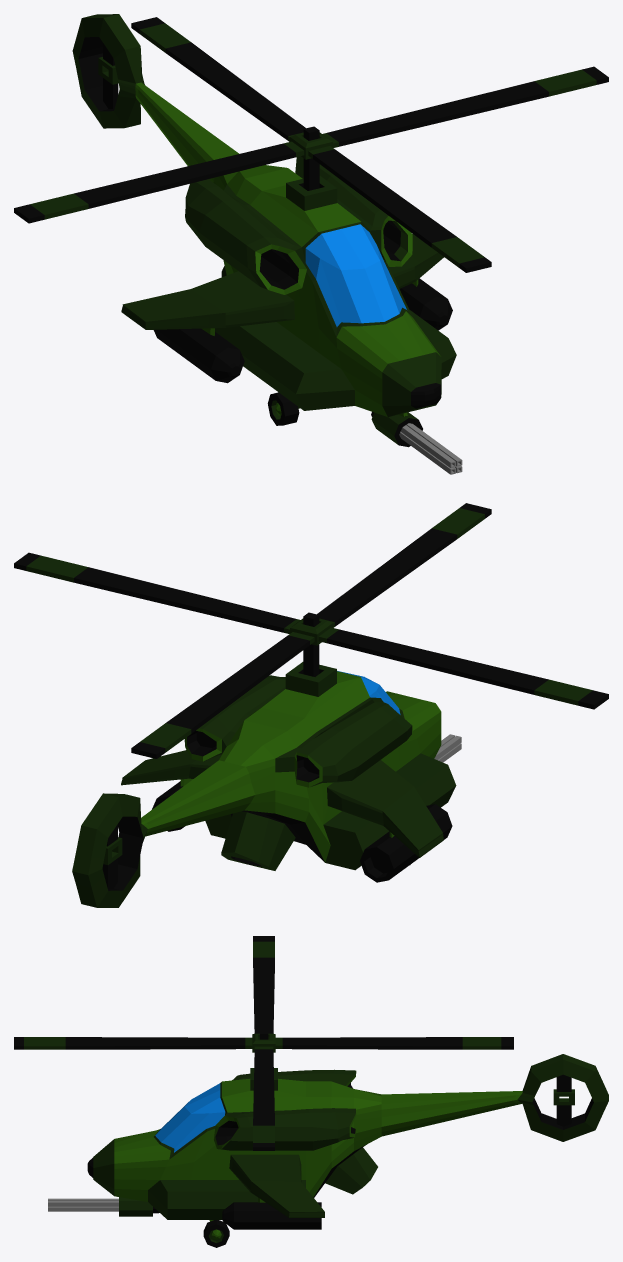
Rendered from Apache.fbx.
3 renders of one model, top to bottom at view 1: azimuth 30°, elevation 25°; view 2: azimuth 150°, elevation 25°; view 3: azimuth 270°, elevation 25°, orthographic. The views are drawn at different scales.
Parts seen in each view (by area): view 1: Apache, Helice, Apache.004, Minigun, Apache.003, Rotor, Apache.002; view 2: Apache, Helice, Apache.004, Rotor; view 3: Apache, Helice, Apache.003, Minigun, Rotor, Apache.001.
Boxes of the visible parts, box(x1,y1,x2,y2) form: Apache: box(72, 14, 456, 416); Helice: box(14, 17, 608, 272); Apache.004: box(153, 328, 244, 383); Minigun: box(371, 412, 462, 474); Apache.003: box(399, 278, 452, 330); Rotor: box(98, 43, 118, 108); Apache.002: box(267, 392, 299, 425); Apache: box(72, 612, 456, 907); Helice: box(14, 503, 608, 758); Apache.004: box(360, 804, 452, 882); Rotor: box(102, 824, 122, 888); Apache: box(87, 1030, 608, 1221); Helice: box(14, 936, 513, 1150); Apache.003: box(222, 1202, 321, 1229); Minigun: box(48, 1197, 159, 1216); Rotor: box(553, 1074, 574, 1126); Apache.001: box(203, 1220, 229, 1247).
Size of the model in its own units: 1190 by 502 by 1415.
